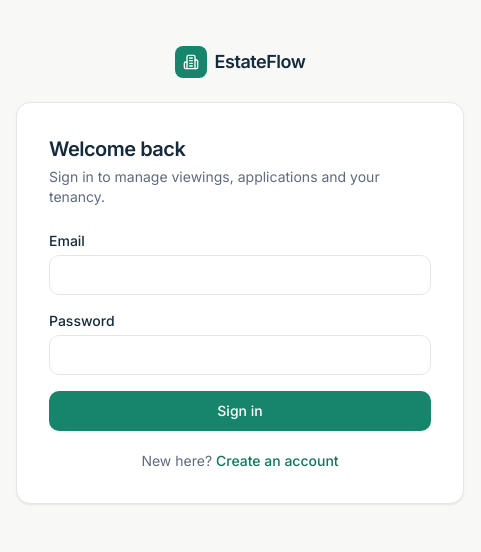
login form › shows the generic server error on failed login
Type "a@b.co" into the field labelled "Email" at (240, 275), box [49, 255, 431, 295]
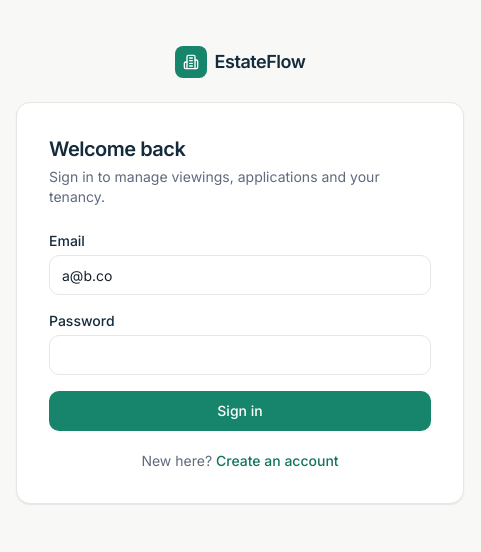
Type "whatever" into the password field labelled "Password" at (240, 355), box [49, 335, 431, 375]
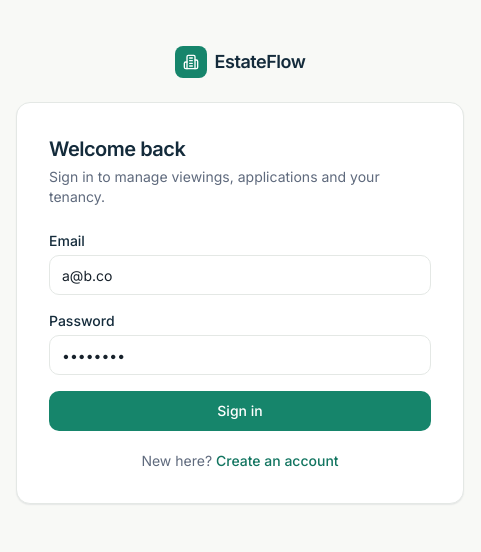
Click the button "Sign in" at (240, 411), box [49, 391, 431, 431]
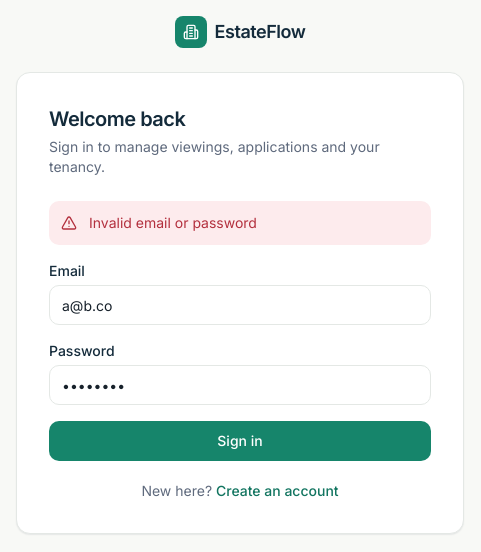
Expected: the message reads "Invalid email or password", [89, 214, 257, 231]
